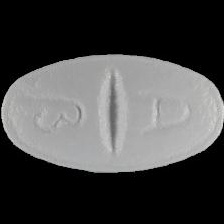0615-8024: (0, 0, 224, 224)
